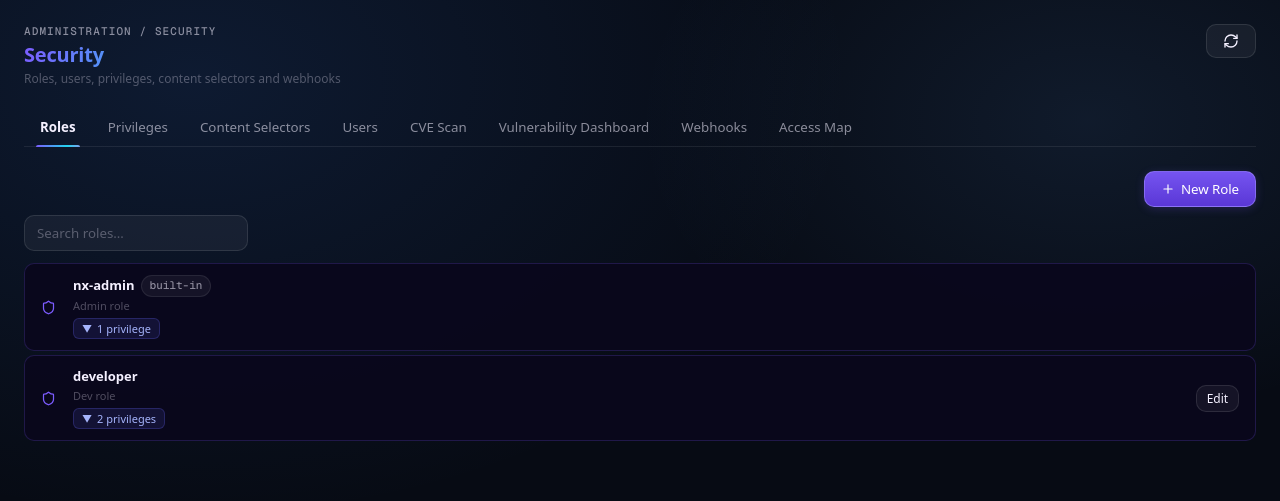
Test case: SecurityPage › expands a role to show its privileges
Check: the text "developer" is shown, box 73,367 -> 138,387
# developer has 2 privileges → expand button "2 privileges"
Click the button "▼ 2 privileges" at coordinates (119, 419), box 73,408 -> 165,429
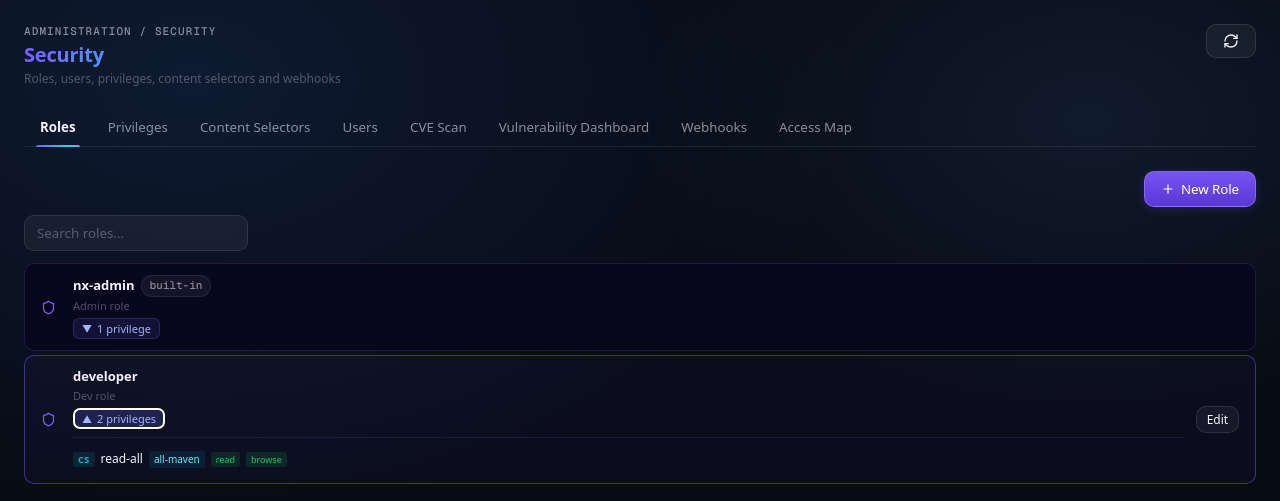
Check: the text "read-all" is shown, box 100,450 -> 143,468
